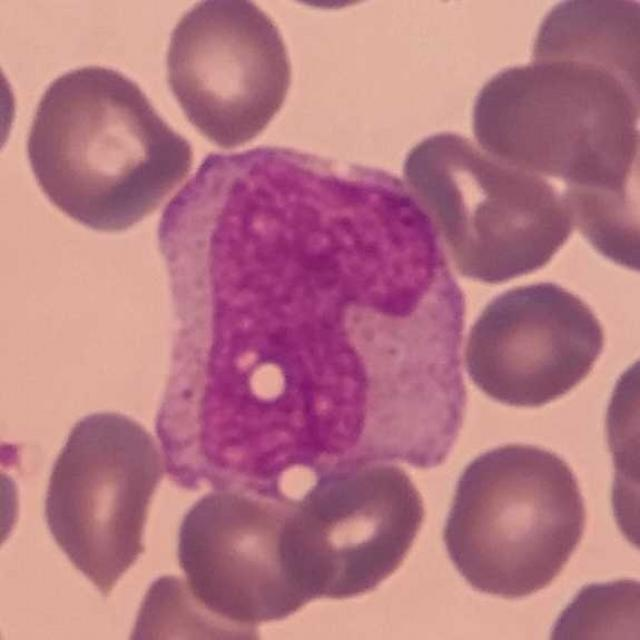Monocyte: (149, 143, 473, 503)
RBC: (19, 57, 196, 235), (396, 125, 580, 288), (436, 435, 594, 603), (35, 403, 168, 592), (169, 482, 336, 628), (272, 453, 433, 604), (465, 54, 640, 182), (458, 275, 611, 412), (158, 0, 298, 149), (523, 0, 640, 136), (560, 120, 640, 280), (118, 567, 276, 640), (540, 570, 640, 640), (596, 340, 640, 490), (601, 426, 640, 570), (0, 430, 28, 578), (0, 34, 23, 179), (241, 0, 411, 14)
